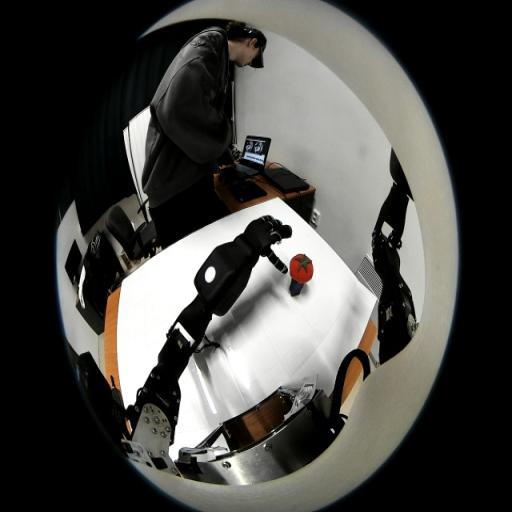LeftHand: (250, 218, 273, 244)
Tomato: (290, 254, 314, 284)
